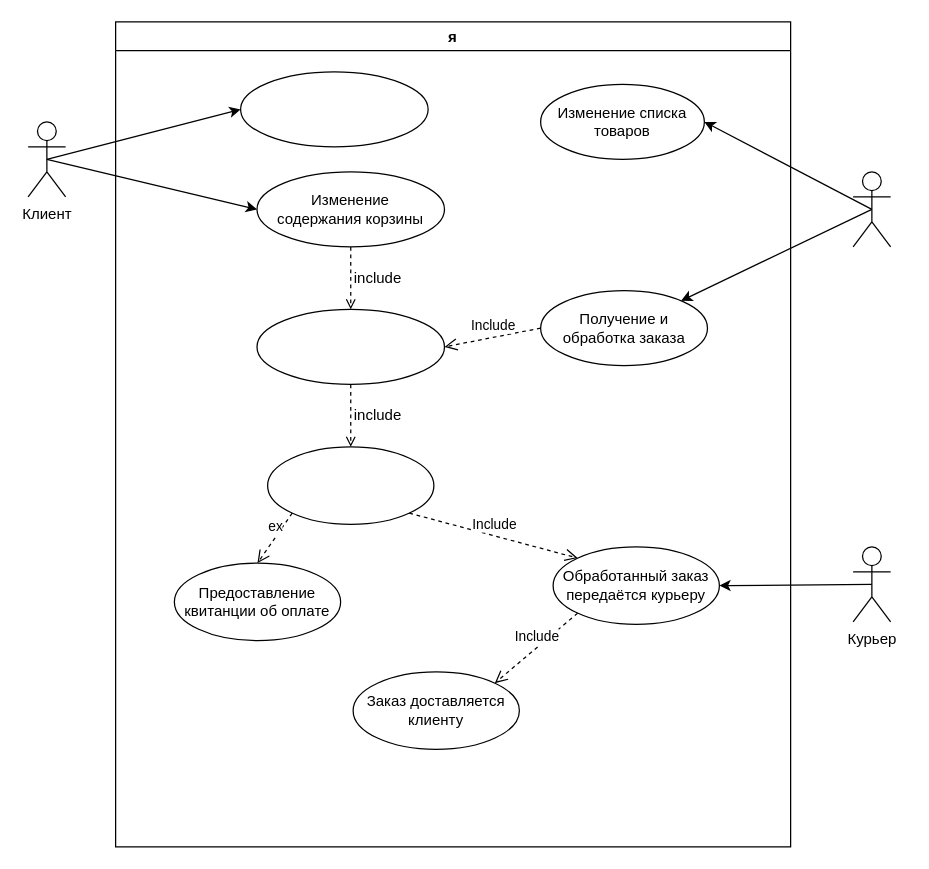
The diagram is 929 pixels wide and 869 high, and some of its shapes have lost their labels. The shapes that lost their labels are listed below. From the top down, each one's centre as x and y in pixels, then its label:
At (333,109): "Просмотр списка товаров".
At (871,209): "Менеджер".
At (350,346): "Оформление товара на покупку товаров".
At (350,485): "Оплата выбранного товара".
